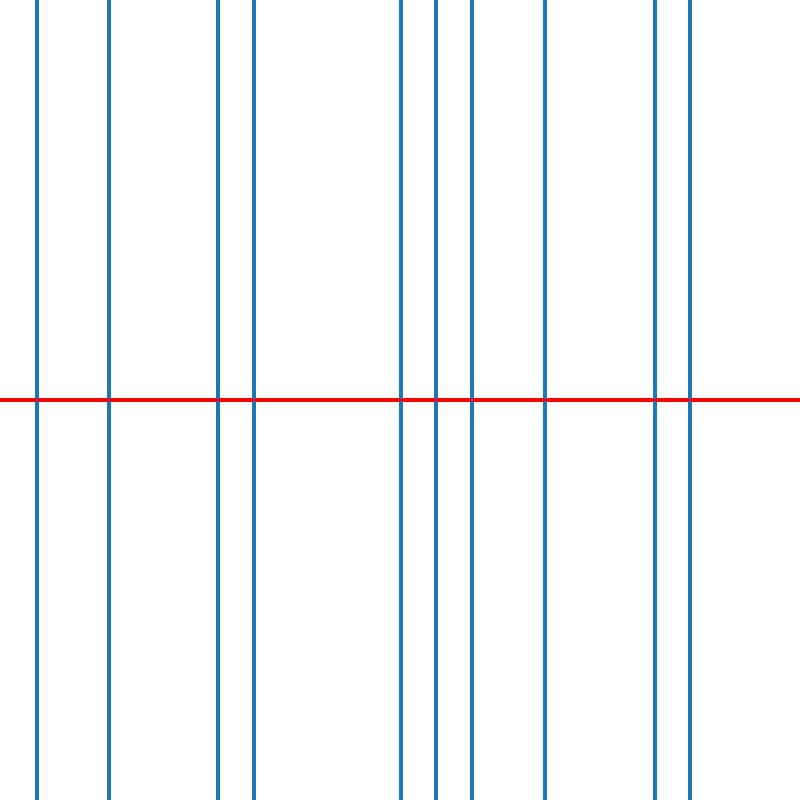root: (432, 396, 440, 404), (250, 396, 258, 404), (541, 396, 549, 404), (32, 396, 40, 404), (650, 396, 658, 404), (105, 396, 112, 404), (469, 396, 476, 404), (214, 396, 221, 404), (687, 396, 694, 404), (396, 396, 403, 404)
